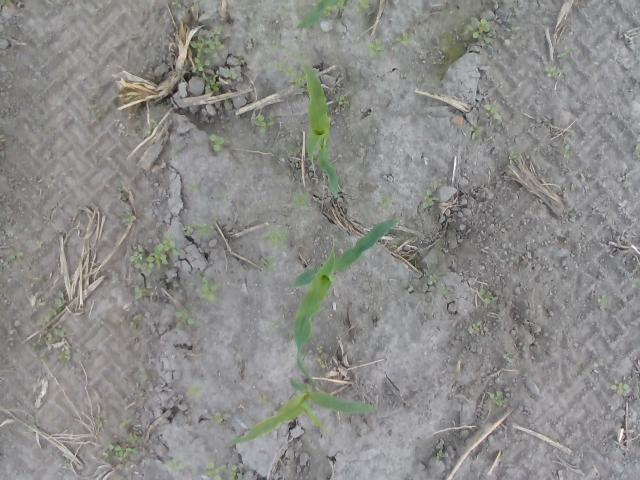Maize: (290, 218, 404, 388), (272, 42, 342, 198), (227, 376, 378, 446), (294, 0, 350, 32)
Weeds: (190, 28, 240, 96), (36, 290, 74, 362), (130, 234, 179, 272), (102, 442, 140, 462), (204, 463, 242, 480), (120, 418, 141, 448), (194, 277, 220, 300), (471, 18, 492, 44), (478, 288, 500, 310), (266, 228, 286, 250), (253, 114, 276, 133), (422, 185, 438, 212), (135, 283, 155, 303), (368, 38, 386, 60), (182, 225, 212, 237), (484, 103, 502, 122), (186, 382, 206, 399), (210, 134, 226, 154), (396, 28, 414, 44), (175, 313, 195, 326), (488, 390, 502, 408), (612, 380, 630, 394), (294, 193, 310, 208), (353, 0, 372, 12), (546, 66, 565, 77), (262, 255, 276, 268), (470, 321, 483, 335), (168, 460, 186, 470), (600, 294, 610, 312), (132, 313, 144, 327), (470, 127, 485, 138), (216, 411, 229, 423), (336, 95, 348, 106), (10, 250, 24, 259), (124, 214, 138, 222), (382, 196, 392, 206), (172, 0, 184, 7)
